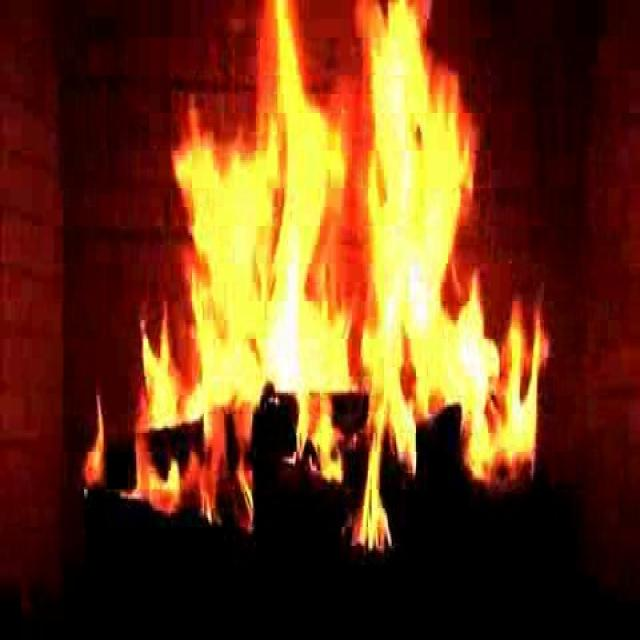smoke: (134, 20, 539, 534)
